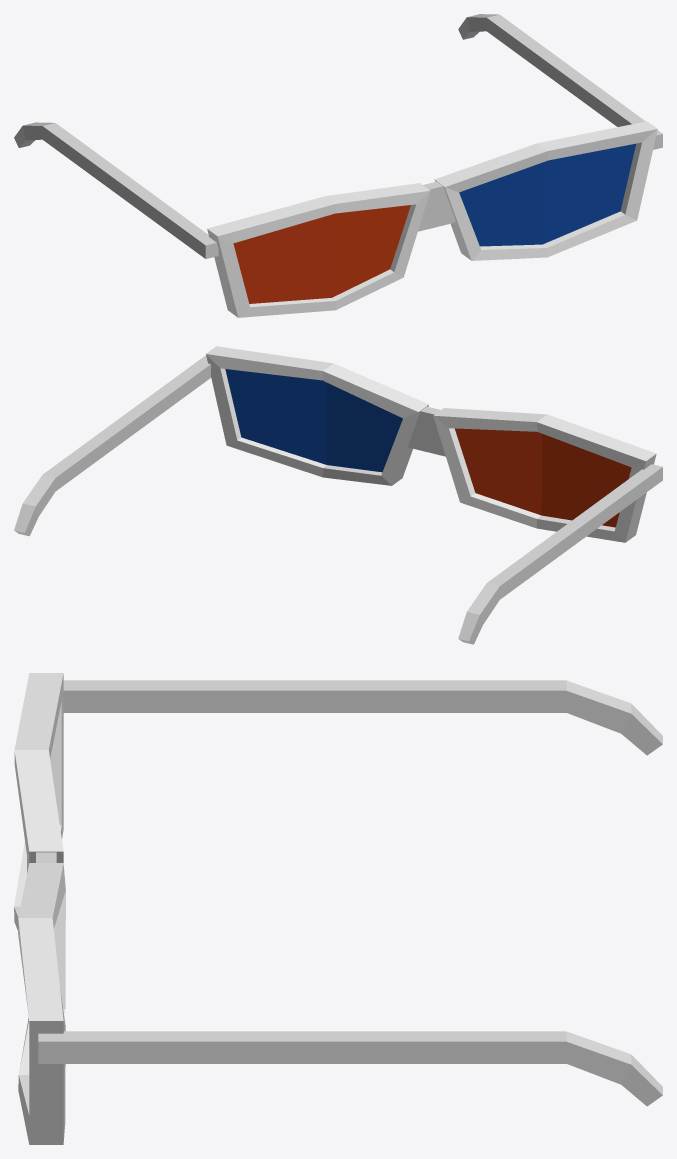
Rendered from 3dGlasses.glb.
3 renders of one model, top to bottom at view 1: azimuth 30°, elevation 25°; view 2: azimuth 150°, elevation 25°; view 3: azimuth 270°, elevation 25°, orthographic. The views are drawn at different scales.
Visible parts, largest first — view 1: Cube.003; view 2: Cube.003; view 3: Cube.003.
Part boxes in pixels (box(x1,y1,x2,y2)): Cube.003: box(14, 14, 662, 317); Cube.003: box(14, 346, 662, 644); Cube.003: box(14, 673, 662, 1144).
Bounding box in the file's own units: 0.2832 × 0.063 × 0.215.
Materials: 2 (2 with a texture image).
